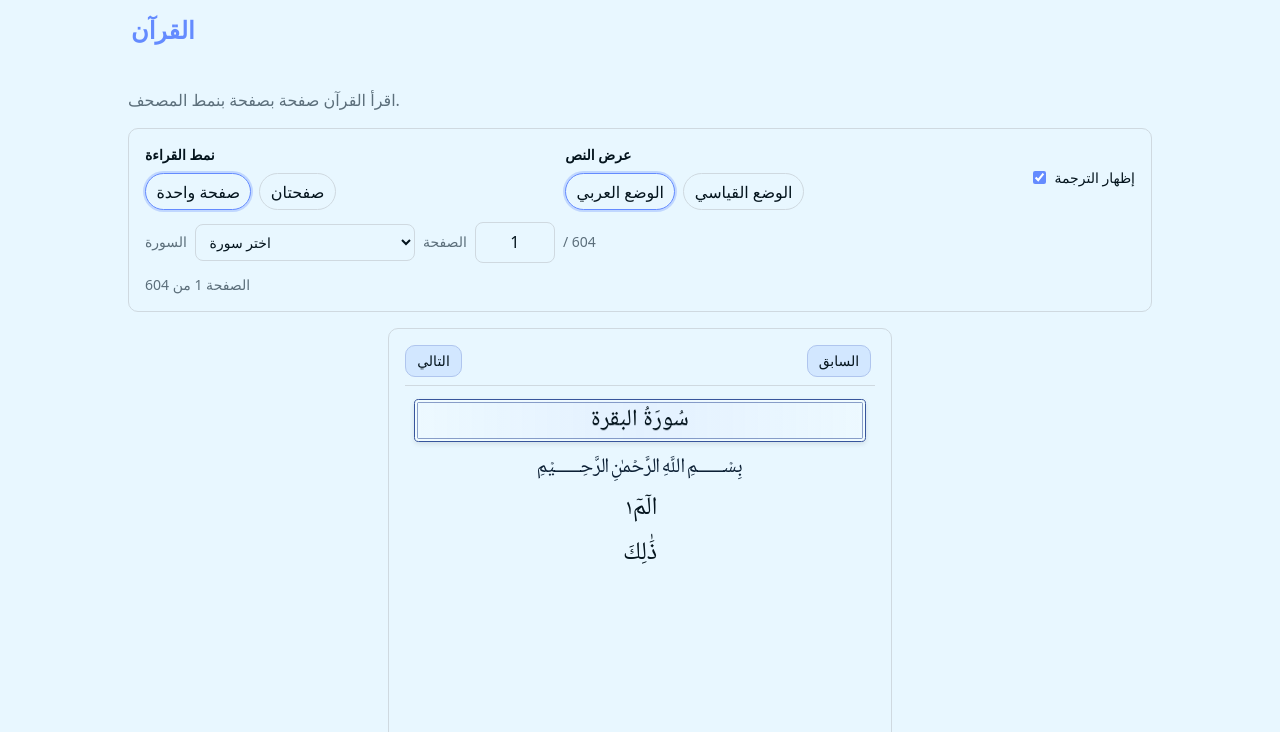
Scenario: QuranView mushaf rendering › renders a 15-line mushaf grid in arabic mode and keeps standard mode verse cards
Check: the element showing "سُورَةُ البقرة" is shown, box x1=405 y1=398 x2=875 y2=443
Check: the element showing "﷽" is shown, box x1=536 y1=436 x2=744 y2=493
Click the button "صفحتان". click: (298, 192)
box: x1=259 y1=173 x2=336 y2=210
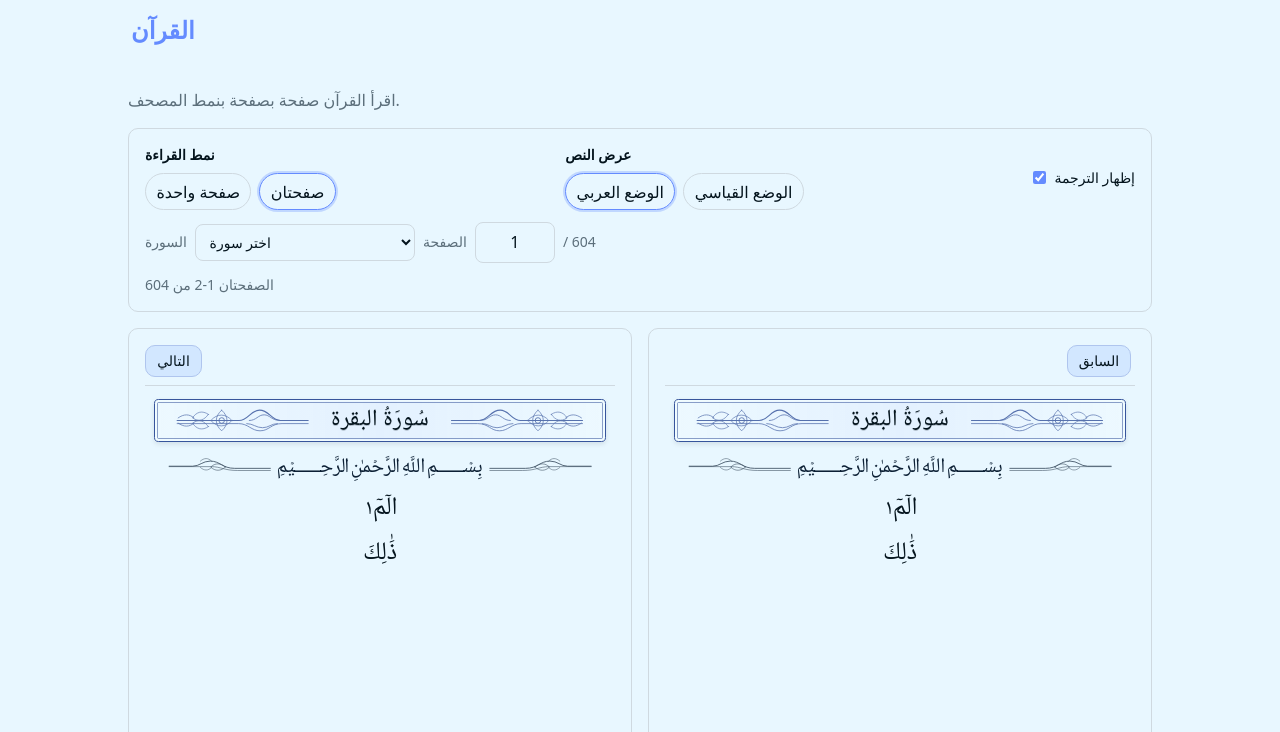
Check: the button "التالي" is shown, box x1=145 y1=345 x2=202 y2=377
Check: the button "السابق" is shown, box x1=1066 y1=345 x2=1131 y2=377
Click the button "الوضع القياسي". click: (744, 192)
box: x1=684 y1=173 x2=804 y2=210
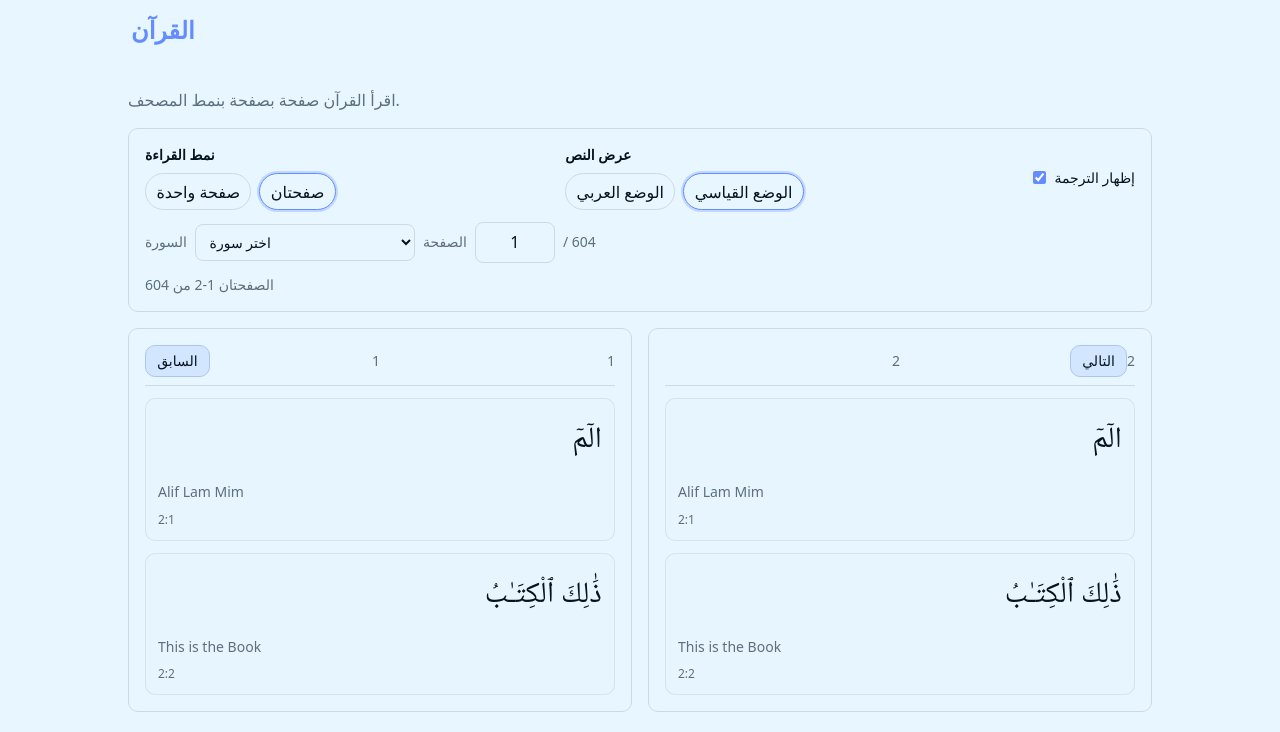
Check: the button "السابق" is shown, box x1=145 y1=345 x2=210 y2=377
Check: the 1st element showing "الٓمٓ Alif Lam Mim 2:1" is shown, box x1=145 y1=398 x2=615 y2=541
